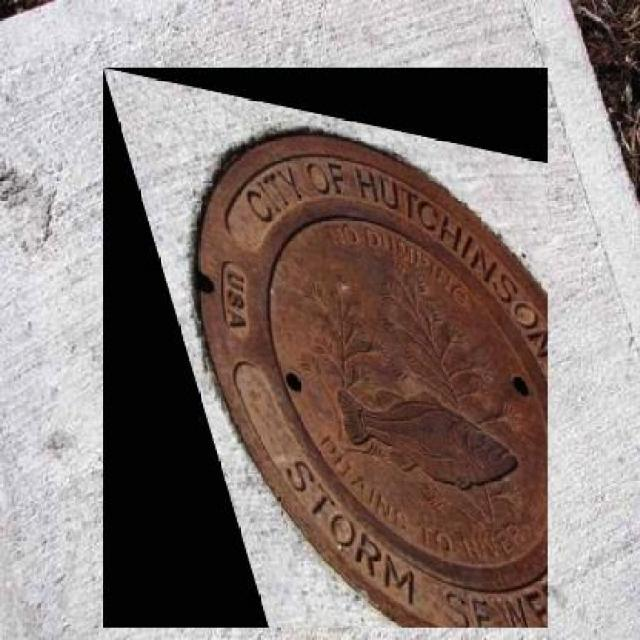Manhole: (103, 68, 548, 628)
Pothole: (0, 145, 73, 262), (34, 403, 78, 471)
